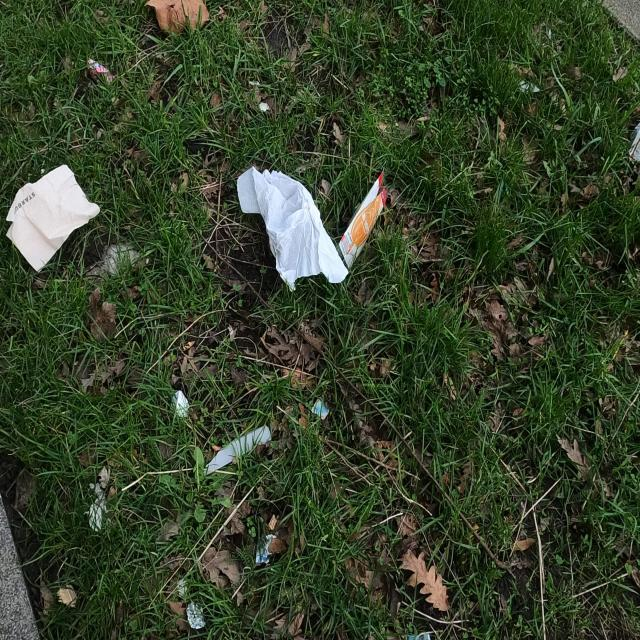Paper: (236, 162, 350, 293), (4, 162, 102, 273)
Plastic: (338, 170, 388, 270)
